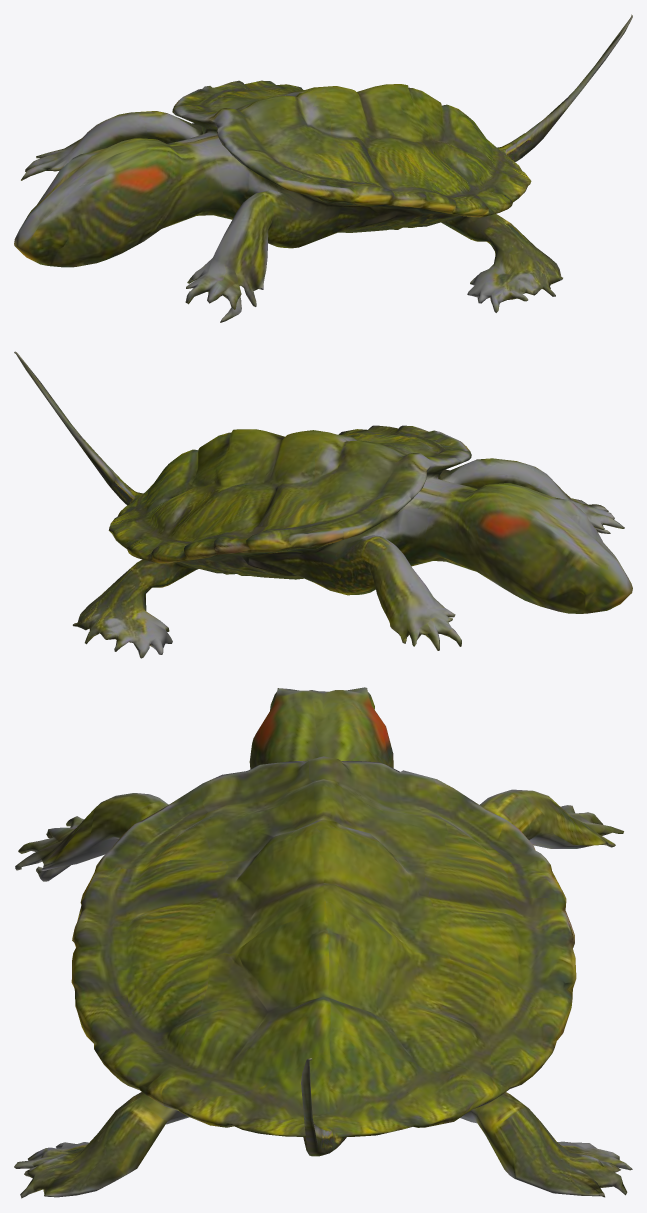
The model's file is kame.glb.
3 views of the same model, one above another, from view 1: azimuth 30°, elevation 25°; view 2: azimuth 150°, elevation 25°; view 3: azimuth 270°, elevation 25° (orthographic). The views are drawn at different scales.
Parts seen in each view (by area): view 1: tripo_node_23a8c24a-63a0-42c1-ae8a-8f6f200a079d; view 2: tripo_node_23a8c24a-63a0-42c1-ae8a-8f6f200a079d; view 3: tripo_node_23a8c24a-63a0-42c1-ae8a-8f6f200a079d.
Boxes of the visible parts, bbox=[...] form: tripo_node_23a8c24a-63a0-42c1-ae8a-8f6f200a079d: bbox=[14, 14, 632, 322]; tripo_node_23a8c24a-63a0-42c1-ae8a-8f6f200a079d: bbox=[14, 351, 632, 658]; tripo_node_23a8c24a-63a0-42c1-ae8a-8f6f200a079d: bbox=[14, 687, 632, 1198].
Size of the model in its own units: 1 by 0.2763 by 0.5627.
1 material, 1 textured.
